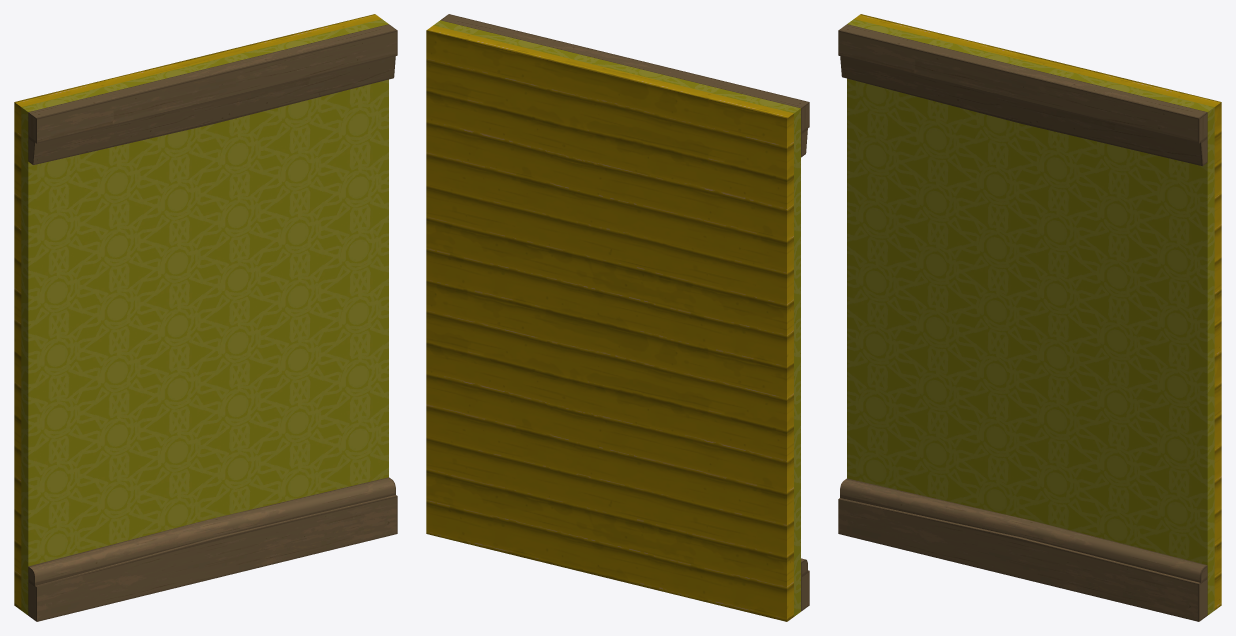
File: SM_building_wall_19.glb
3 views of the same model, side by side, from view 1: azimuth 30°, elevation 25°; view 2: azimuth 150°, elevation 25°; view 3: azimuth 330°, elevation 25° (orthographic).
Parts seen in each view (by area): view 1: SM_building_wall_19; view 2: SM_building_wall_19; view 3: SM_building_wall_19.
Boxes of the visible parts, left/top/right/bottom form: SM_building_wall_19: left=14, top=14, right=397, bottom=621; SM_building_wall_19: left=426, top=14, right=809, bottom=621; SM_building_wall_19: left=838, top=14, right=1221, bottom=621.
Bounding box in the file's own units: 3 × 4 × 0.3245.
Materials: 3 (3 with a texture image).
